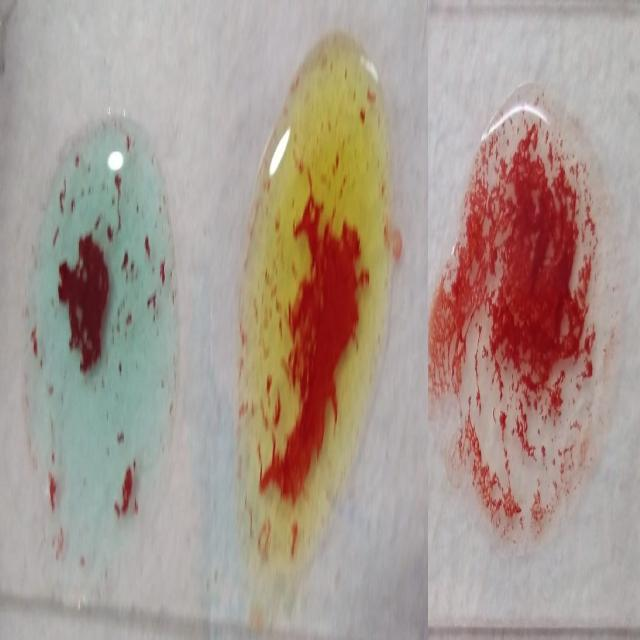A: (36, 121, 174, 554)
B: (244, 41, 390, 566)
D: (436, 82, 612, 565)
